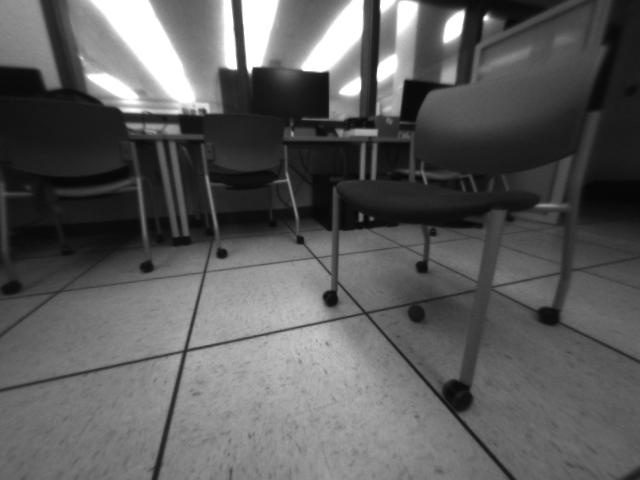dogtoy: (401, 299, 432, 327)
